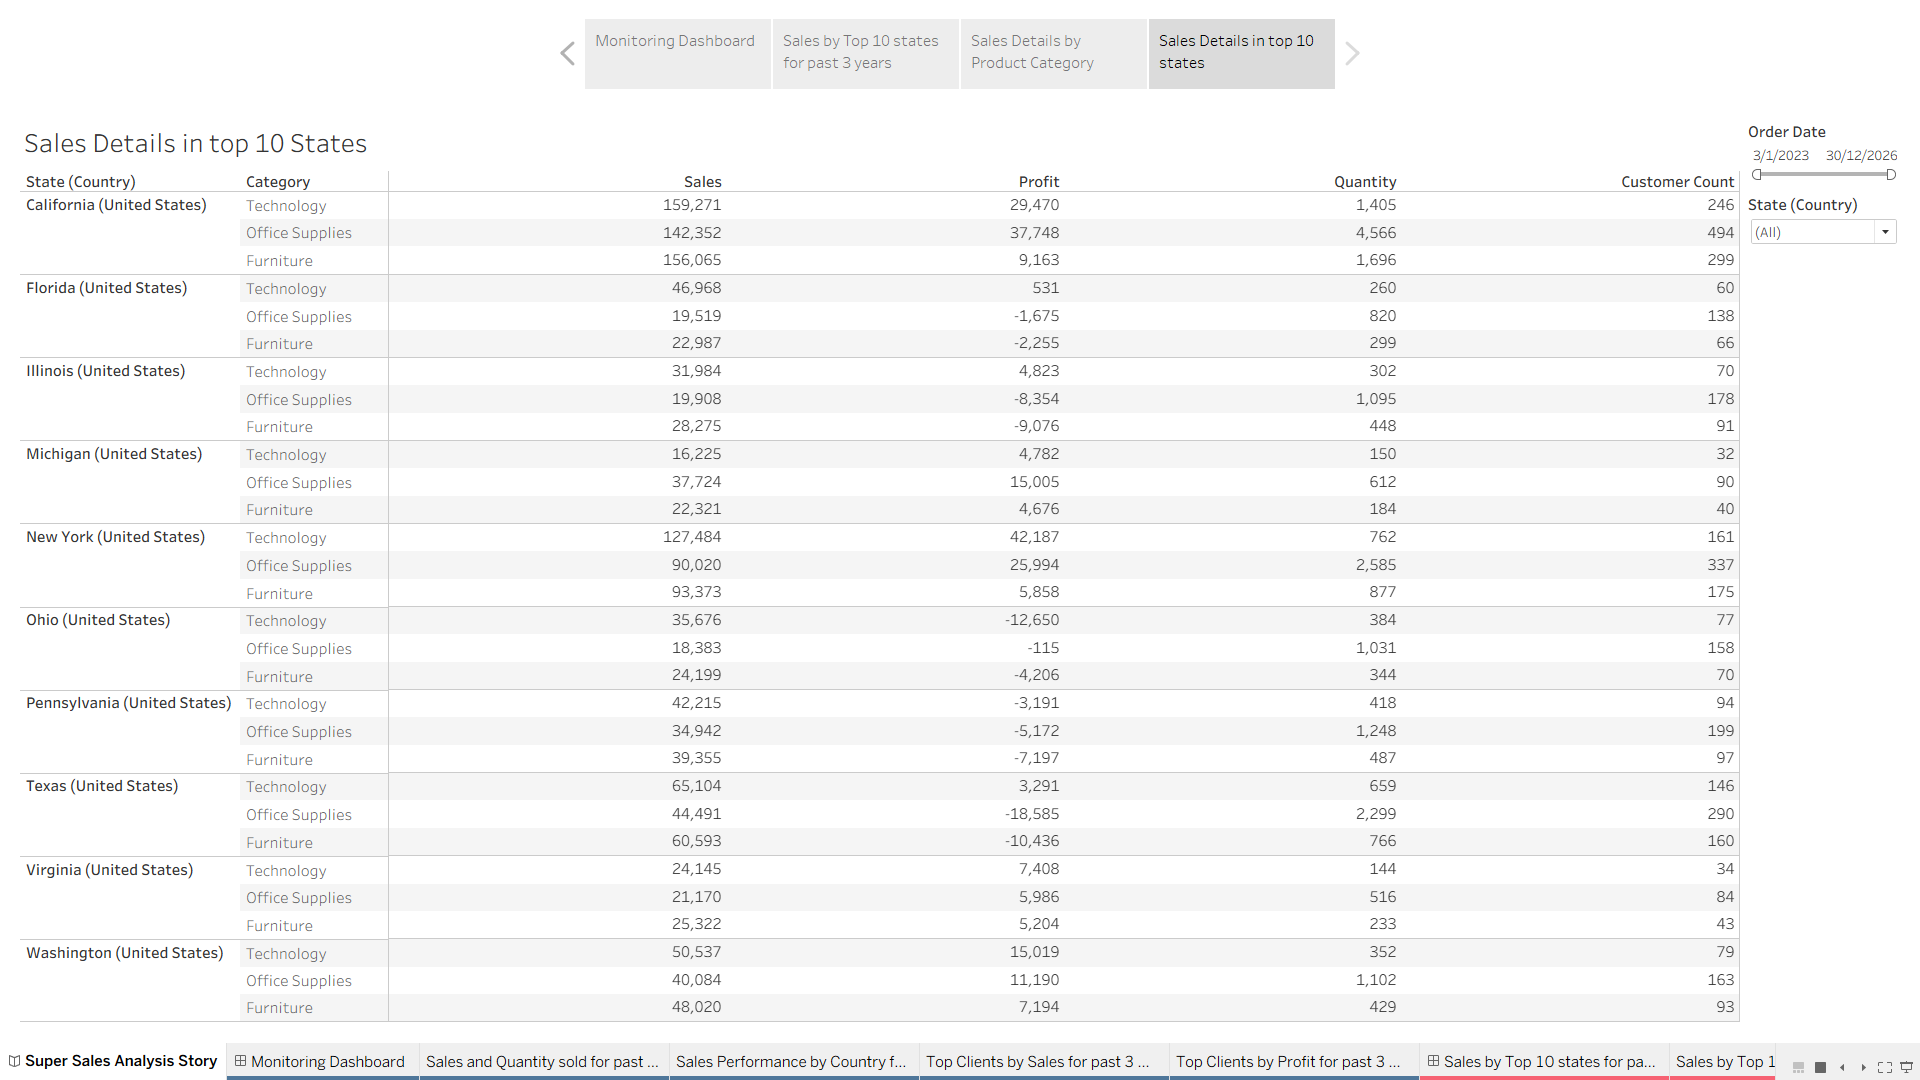

What the dashboard file says about the page in this screenshot:
{"tool":"tableau","page":{"name":"Sales Details in top 10 States D","canvas":[1000,1000],"units":"permille","ordinal":2},"visuals":[{"type":"worksheet","title":"Sales Details in top 10 States","mark":"Automatic","rows":["Calculation_2013771162484739","Category"],"box":[4.8,9.4,893.8,981.2]},{"type":"filter","title":"Sales Details in top 10 States","param":"[federated.16buhzm0bt8dtm1b2378x1yd18d9].[none:Order Date:qk]","box":[898.6,9.4,96.6,85.8]},{"type":"filter","title":"Sales Details in top 10 States","param":"[federated.16buhzm0bt8dtm1b2378x1yd18d9].[none:Calculation_2013771162484739:nk]","box":[898.6,95.2,96.6,71.7]}]}

Visuals, with their boxes on the dashboard's canvas, which has no fixed pixel size, in thousandths of its width and height (x1, y1, x2, y2). These are canvas units, not pixel positions in the 1920x1080 screenshot, which may show the page scaled, cropped or inside an application window:
"Sales Details in top 10 States" worksheet: [left=5, top=9, right=899, bottom=991]
"Sales Details in top 10 States" filter: [left=899, top=9, right=995, bottom=95]
"Sales Details in top 10 States" filter: [left=899, top=95, right=995, bottom=167]
